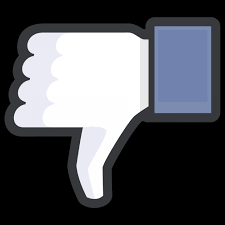thumbs_up: (7, 7, 216, 220)
